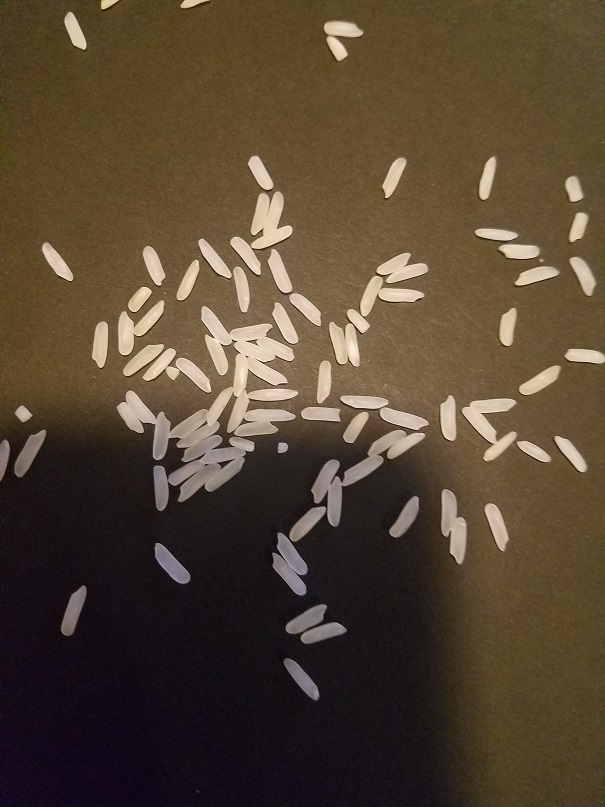egg: (268, 551, 307, 598), (13, 428, 47, 480), (177, 464, 222, 503), (282, 656, 321, 700), (151, 542, 191, 584), (120, 342, 165, 378), (60, 583, 89, 637), (388, 495, 422, 541), (196, 238, 233, 280), (517, 363, 562, 397), (173, 357, 214, 394), (275, 532, 308, 577), (205, 456, 245, 493), (482, 502, 510, 554), (338, 455, 383, 487), (460, 407, 498, 444), (553, 435, 589, 474), (308, 460, 339, 504), (283, 604, 327, 635), (132, 298, 166, 338), (40, 242, 73, 283), (377, 406, 431, 431), (167, 408, 209, 440), (246, 356, 289, 387), (200, 306, 233, 346), (270, 302, 300, 346), (175, 422, 220, 451), (289, 506, 325, 542), (229, 237, 262, 276), (266, 248, 293, 295), (299, 620, 347, 646), (141, 347, 176, 382), (181, 434, 223, 463), (175, 258, 201, 304), (288, 294, 322, 329), (568, 256, 597, 297), (358, 274, 385, 318), (381, 156, 408, 199), (366, 428, 406, 457), (385, 432, 425, 461), (261, 191, 286, 237), (511, 265, 561, 288), (205, 386, 233, 427), (166, 458, 205, 487), (481, 430, 516, 462), (251, 224, 294, 250), (225, 390, 250, 434), (140, 245, 166, 287), (203, 334, 229, 376), (125, 390, 157, 424), (61, 11, 88, 50), (255, 336, 295, 362), (246, 154, 274, 191), (248, 192, 271, 237), (115, 400, 144, 435), (341, 410, 369, 445), (151, 411, 171, 460), (448, 517, 468, 566), (476, 156, 497, 202), (328, 320, 349, 366), (439, 393, 458, 442), (232, 341, 276, 362), (198, 447, 246, 466), (386, 262, 429, 283), (440, 488, 458, 538), (516, 440, 552, 465), (375, 252, 411, 276), (90, 321, 108, 369), (232, 266, 250, 313), (151, 465, 169, 512), (377, 287, 426, 304), (498, 306, 518, 347), (229, 323, 272, 342), (565, 211, 589, 244), (343, 323, 361, 367), (233, 420, 279, 437), (338, 394, 389, 409), (117, 312, 134, 356), (327, 474, 341, 527), (248, 387, 297, 402), (469, 398, 517, 413), (497, 244, 541, 260), (324, 35, 350, 62), (126, 286, 152, 313), (323, 20, 364, 37), (564, 348, 605, 365), (562, 174, 586, 203), (346, 308, 372, 333), (232, 353, 247, 396), (316, 360, 331, 403), (300, 407, 343, 422), (475, 228, 521, 241), (243, 409, 295, 420), (227, 435, 255, 452), (1, 439, 12, 480), (12, 404, 33, 422), (179, 1, 210, 10), (164, 365, 180, 380), (98, 1, 119, 10), (276, 442, 288, 454)
